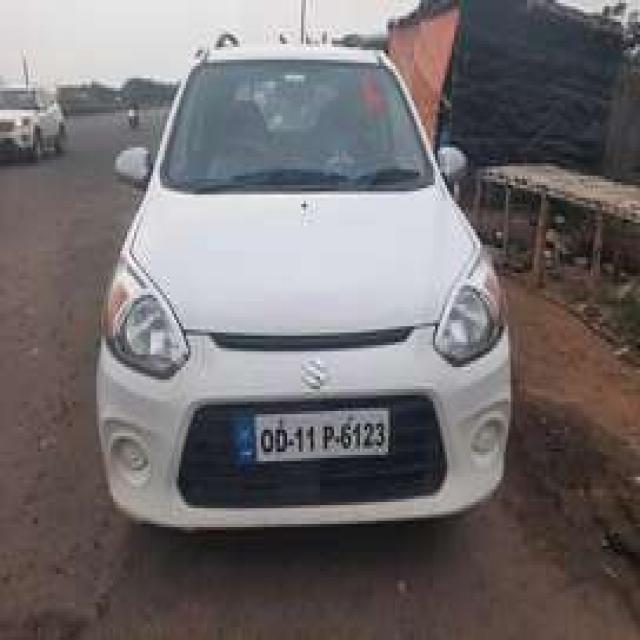Plate: (231, 406, 387, 462)
